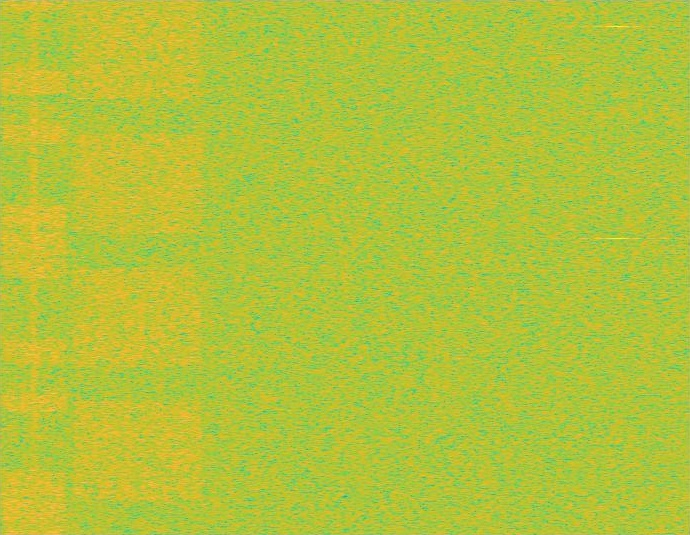5G: (69, 0, 207, 534)
DSSS: (30, 0, 39, 534)
LTE: (0, 0, 69, 534)
Radar: (611, 0, 625, 534)
